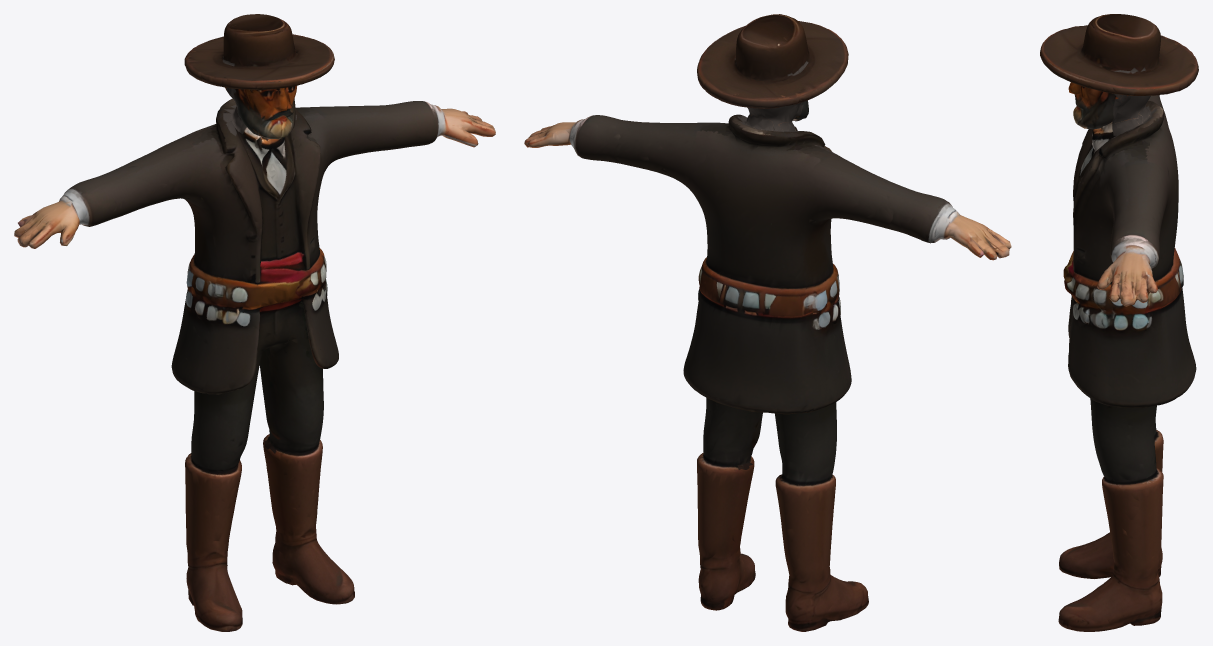
The model's file is don_rufino_mixamo.fbx.
3 views of the same model, side by side, from view 1: azimuth 30°, elevation 25°; view 2: azimuth 150°, elevation 25°; view 3: azimuth 270°, elevation 25° (orthographic).
Visible parts, largest first — view 1: don_rufino; view 2: don_rufino; view 3: don_rufino.
Boxes of the visible parts, left/top/right/bottom form: don_rufino: left=14, top=14, right=495, bottom=631; don_rufino: left=524, top=14, right=1011, bottom=631; don_rufino: left=1040, top=14, right=1198, bottom=631.
Size of the model in its own units: 155 by 180 by 44.9.
Materials: 1 (1 with a texture image).
